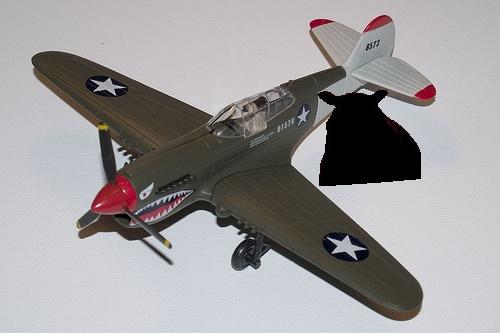tampered: (319, 91, 421, 186)
